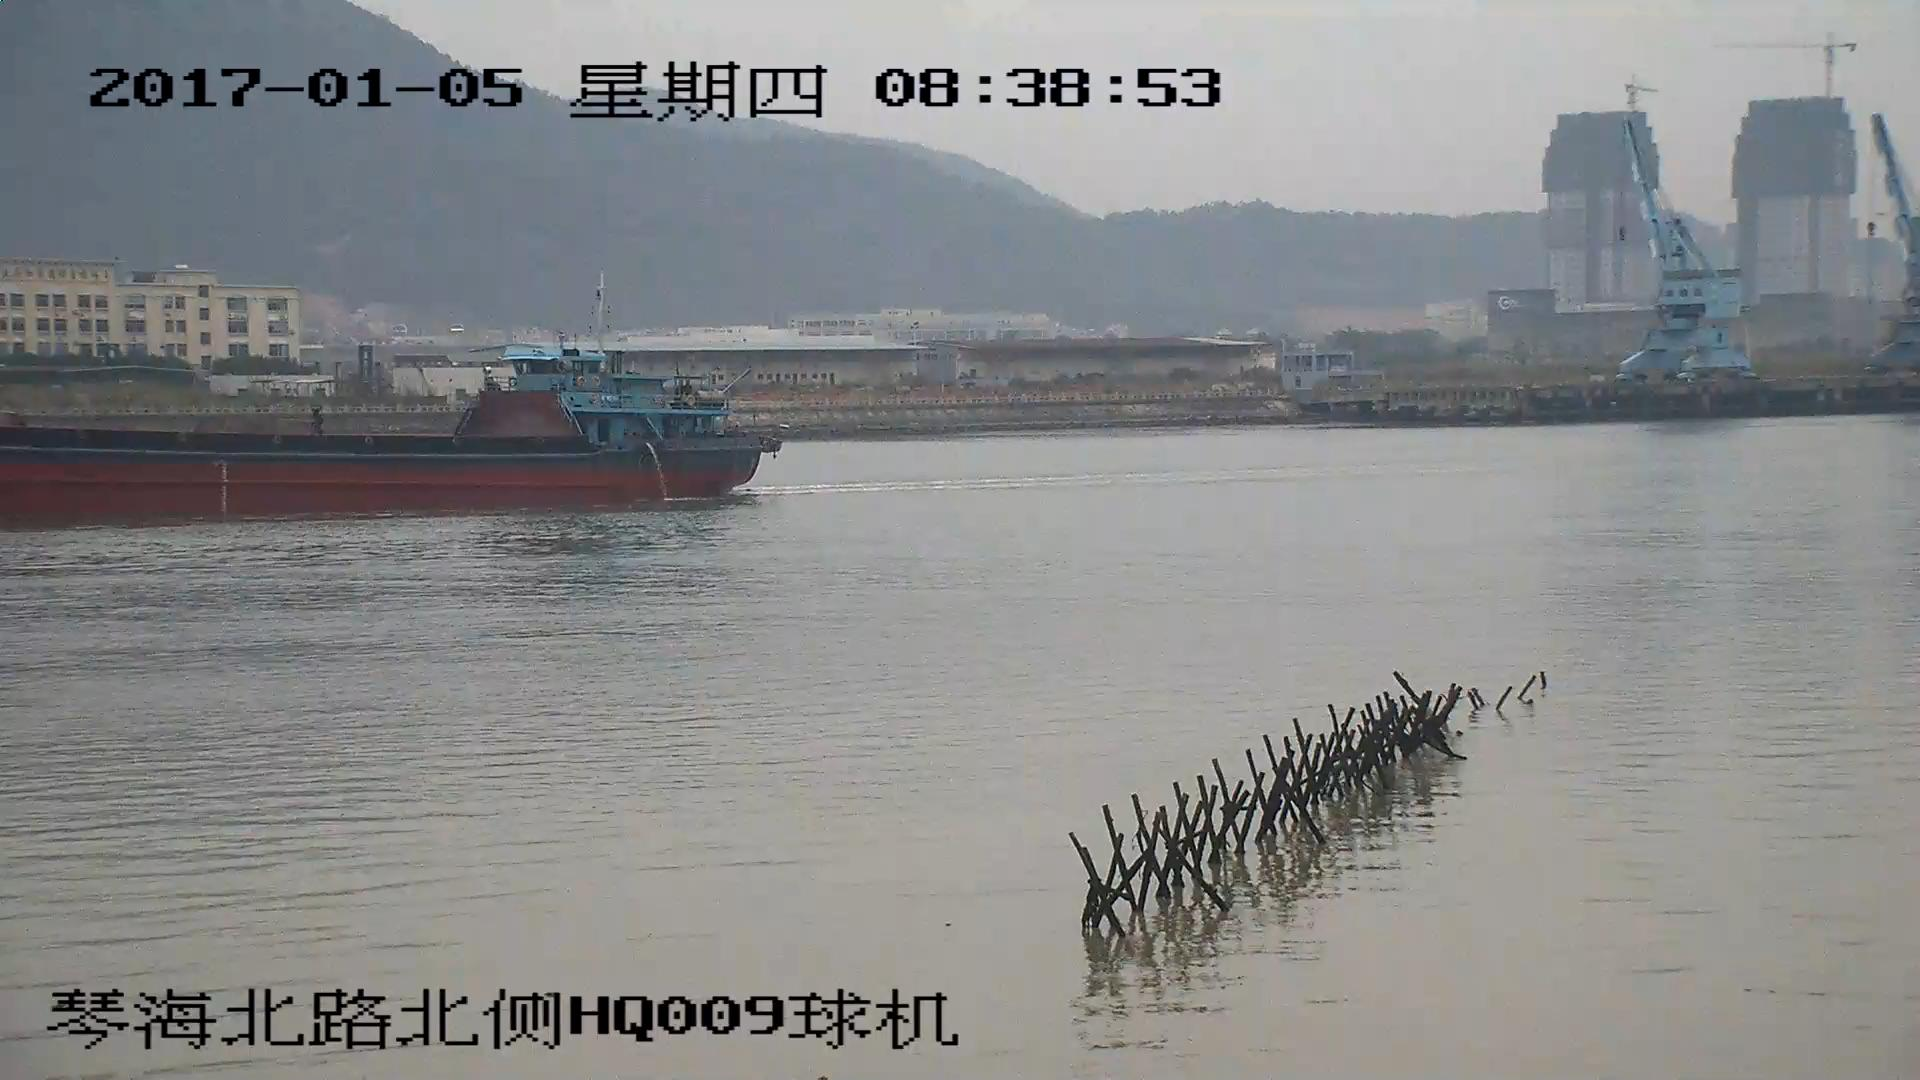bulk cargo carrier: (1, 333, 789, 511)
